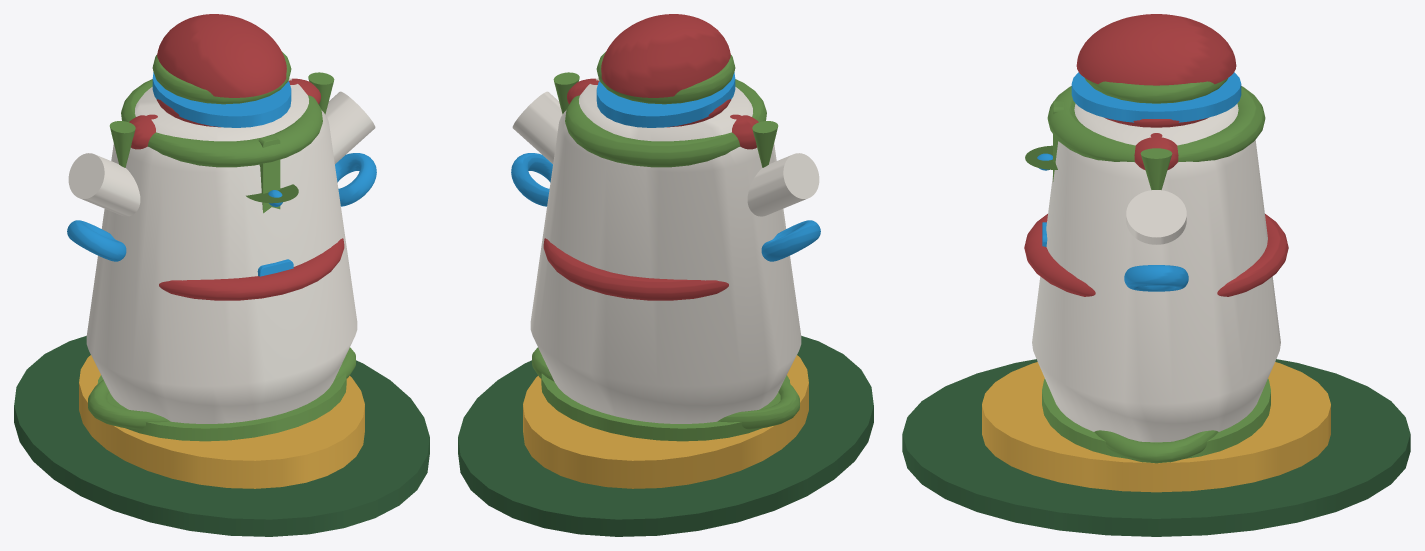
Rendered from 0908_故宫图鉴_一品官员夏季服饰.glb.
3 renders of one model, left to right at view 1: azimuth 30°, elevation 25°; view 2: azimuth 150°, elevation 25°; view 3: azimuth 270°, elevation 25°, orthographic. The views are drawn at different scales.
Visible parts, largest first — view 1: card_0908; view 2: card_0908; view 3: card_0908.
Boxes of the visible parts, <box> form: card_0908: <box>14,14,429,536</box>; card_0908: <box>458,14,873,536</box>; card_0908: <box>902,14,1410,536</box>.
Size of the model in its own units: 0.8494 by 1 by 1.07.
